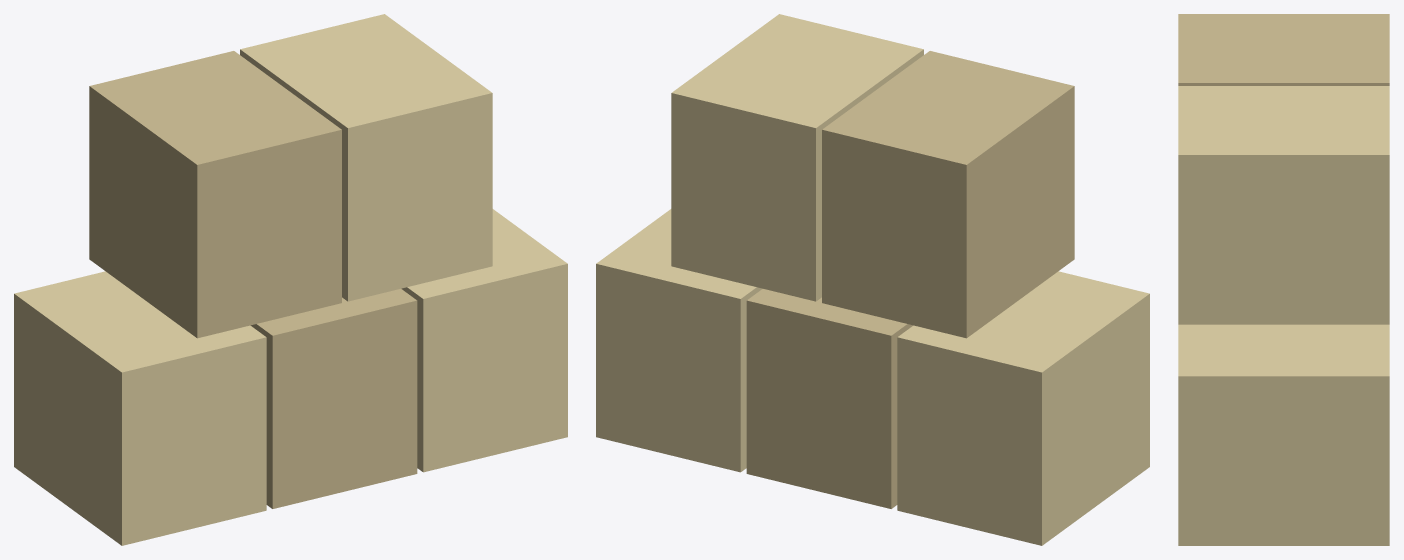
File: prop_bale_stack.glb
3 views of the same model, side by side, from view 1: azimuth 30°, elevation 25°; view 2: azimuth 150°, elevation 25°; view 3: azimuth 270°, elevation 25° (orthographic). The views are drawn at different scales.
Parts seen in each view (by area): view 1: prop_bale_stack; view 2: prop_bale_stack; view 3: prop_bale_stack.
Part boxes in pixels (x1,y1,x2,y2): prop_bale_stack: (14,14,567,545); prop_bale_stack: (596,14,1149,545); prop_bale_stack: (1178,14,1389,545).
Size of the model in its own units: 0.148 by 0.115 by 0.062.
